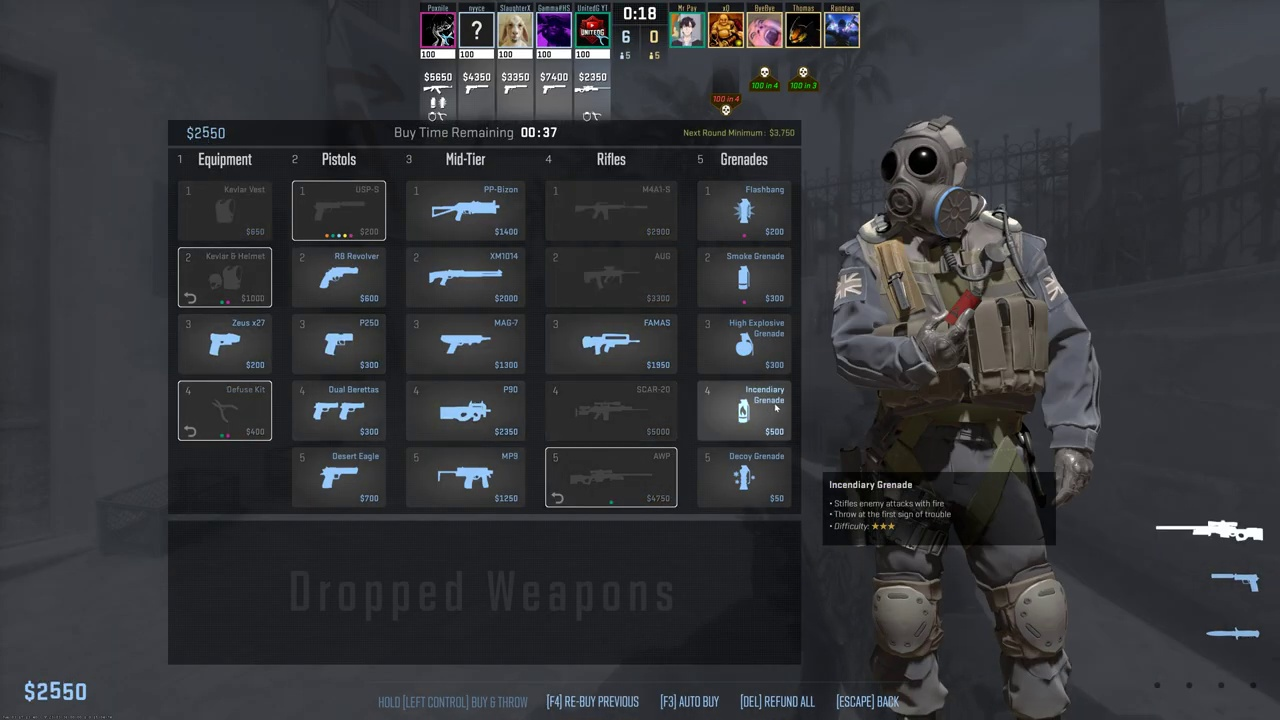CT: (858, 128, 1078, 708)
